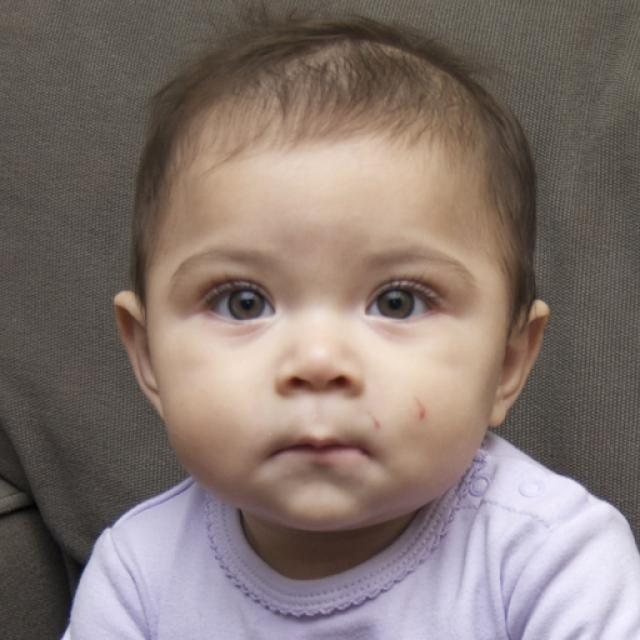0_rostro_limpio: (115, 24, 548, 531)
